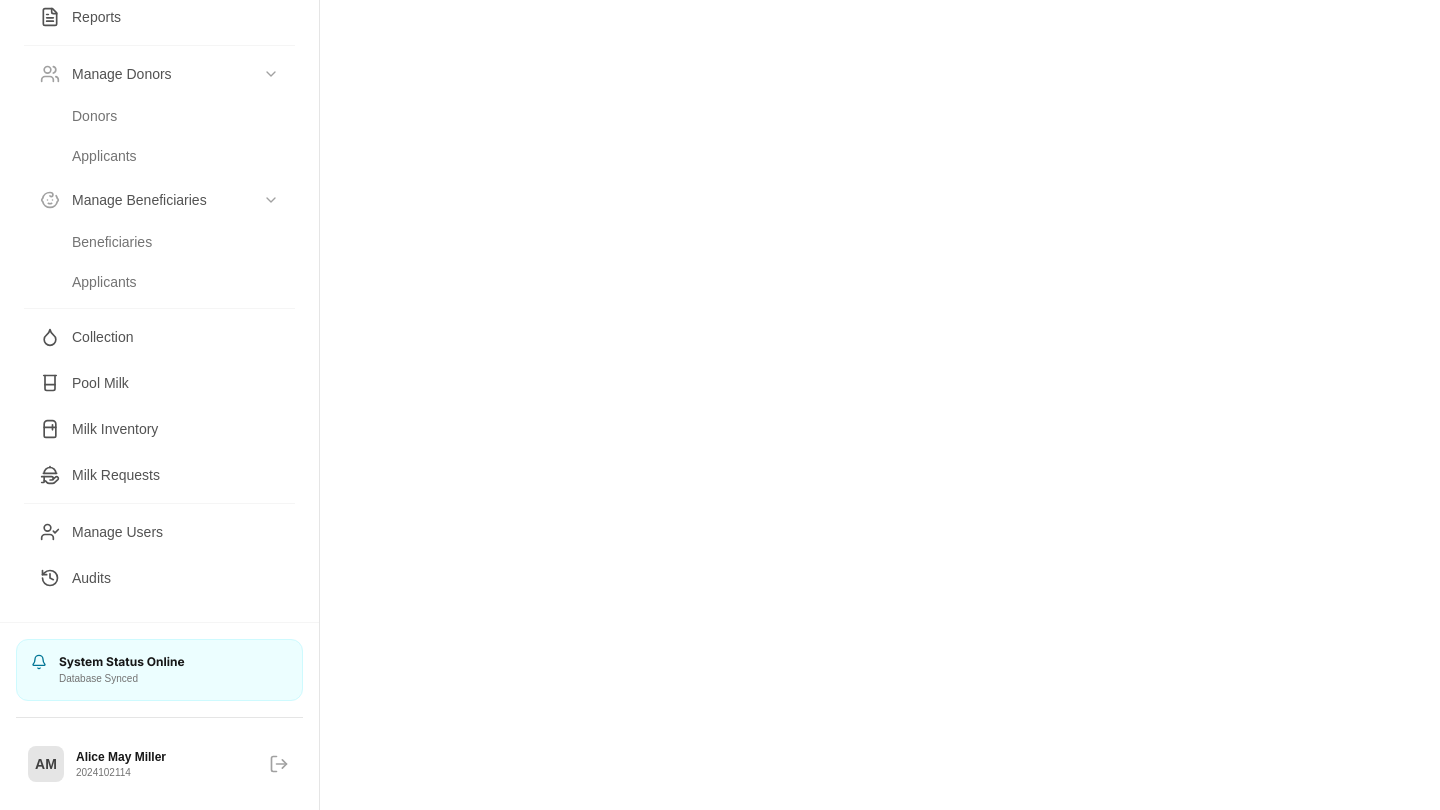
StaffSidebar Component › closes logout modal when cancel button is clicked
(page scrolled)
# Open modal
Click the button with test id "logout-btn" at (279, 764), box top-left (263, 748), bottom-right (295, 780)
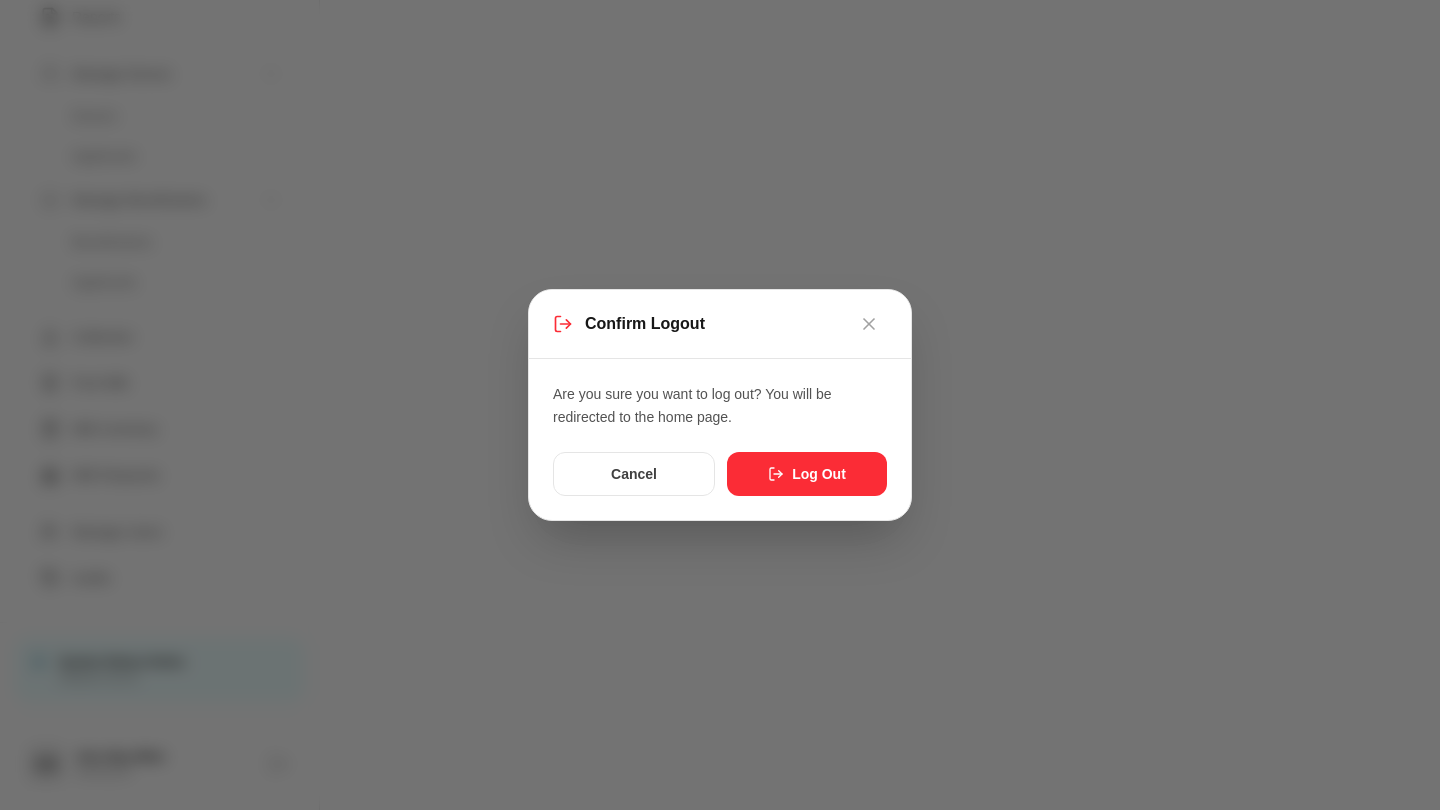
Check: the element with test id "logout-modal" is shown
# Click cancel
Click the button with test id "cancel-logout-btn" at (634, 474), box top-left (553, 452), bottom-right (715, 496)
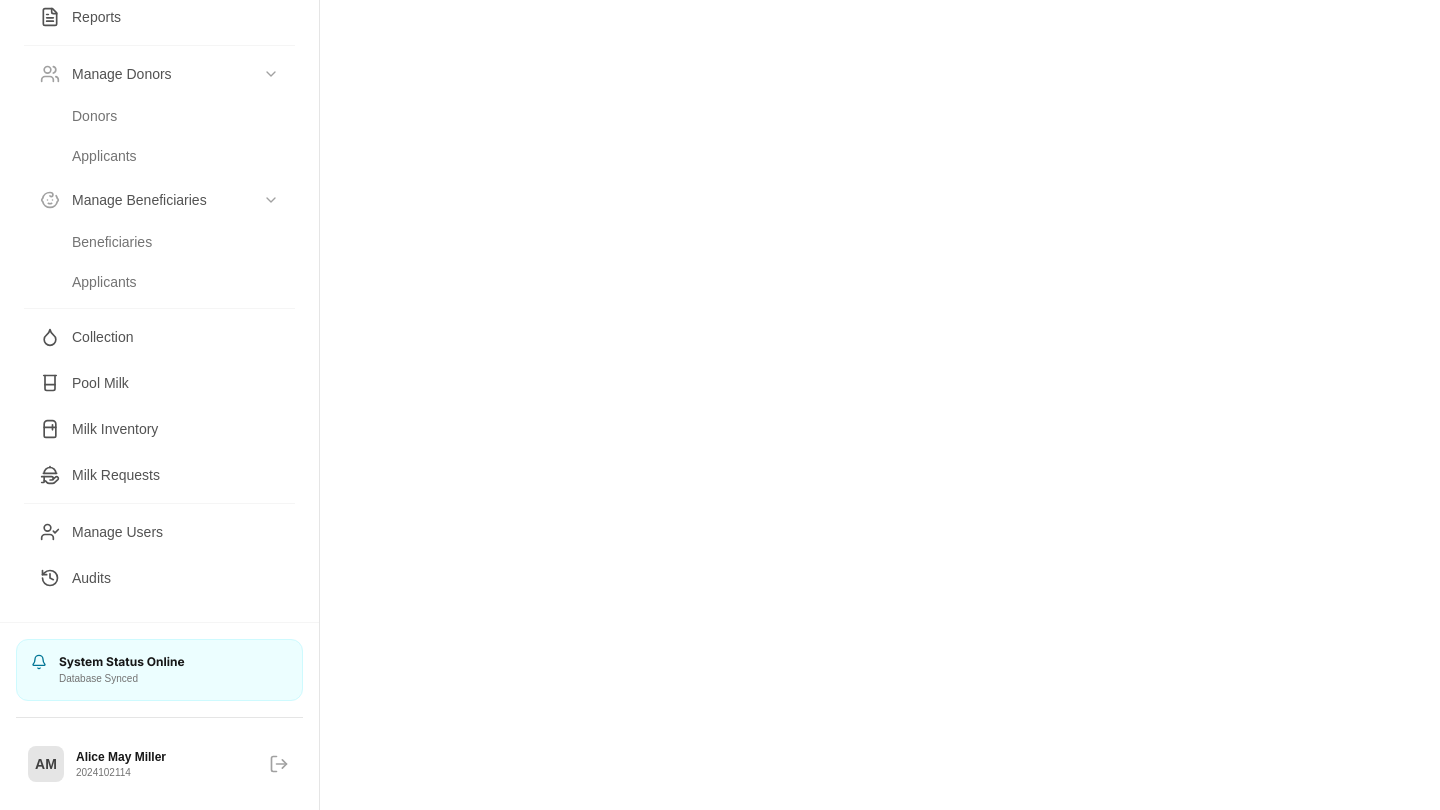
Check: the element with test id "logout-modal" is gone
